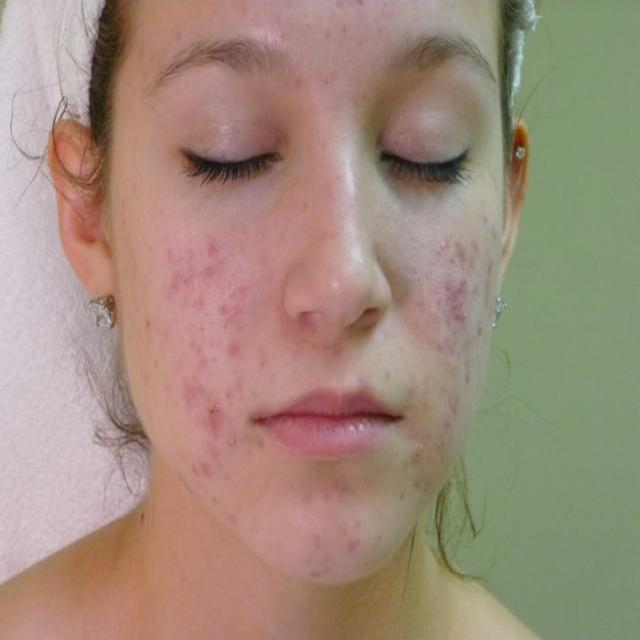Acne: (157, 236, 265, 485), (423, 229, 501, 474), (227, 0, 412, 91), (297, 486, 372, 576), (207, 494, 263, 542), (396, 450, 424, 505)
